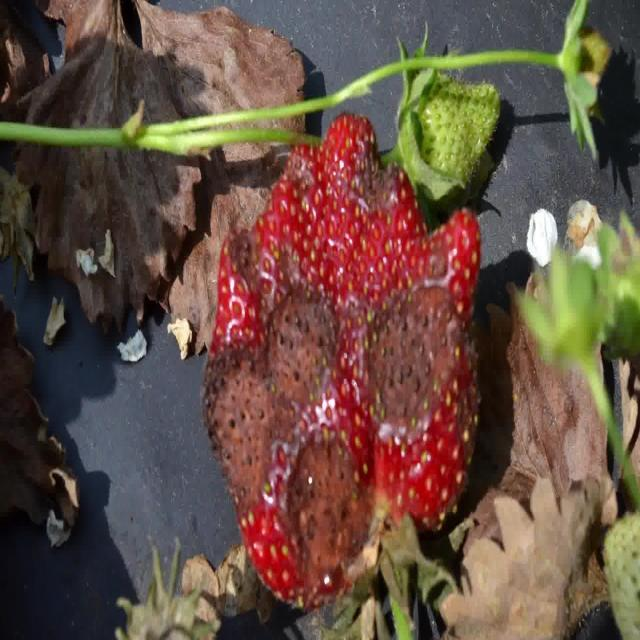Mancha negra Antracnosis: (191, 227, 339, 472), (354, 268, 486, 514), (266, 391, 386, 607), (328, 128, 414, 243)
